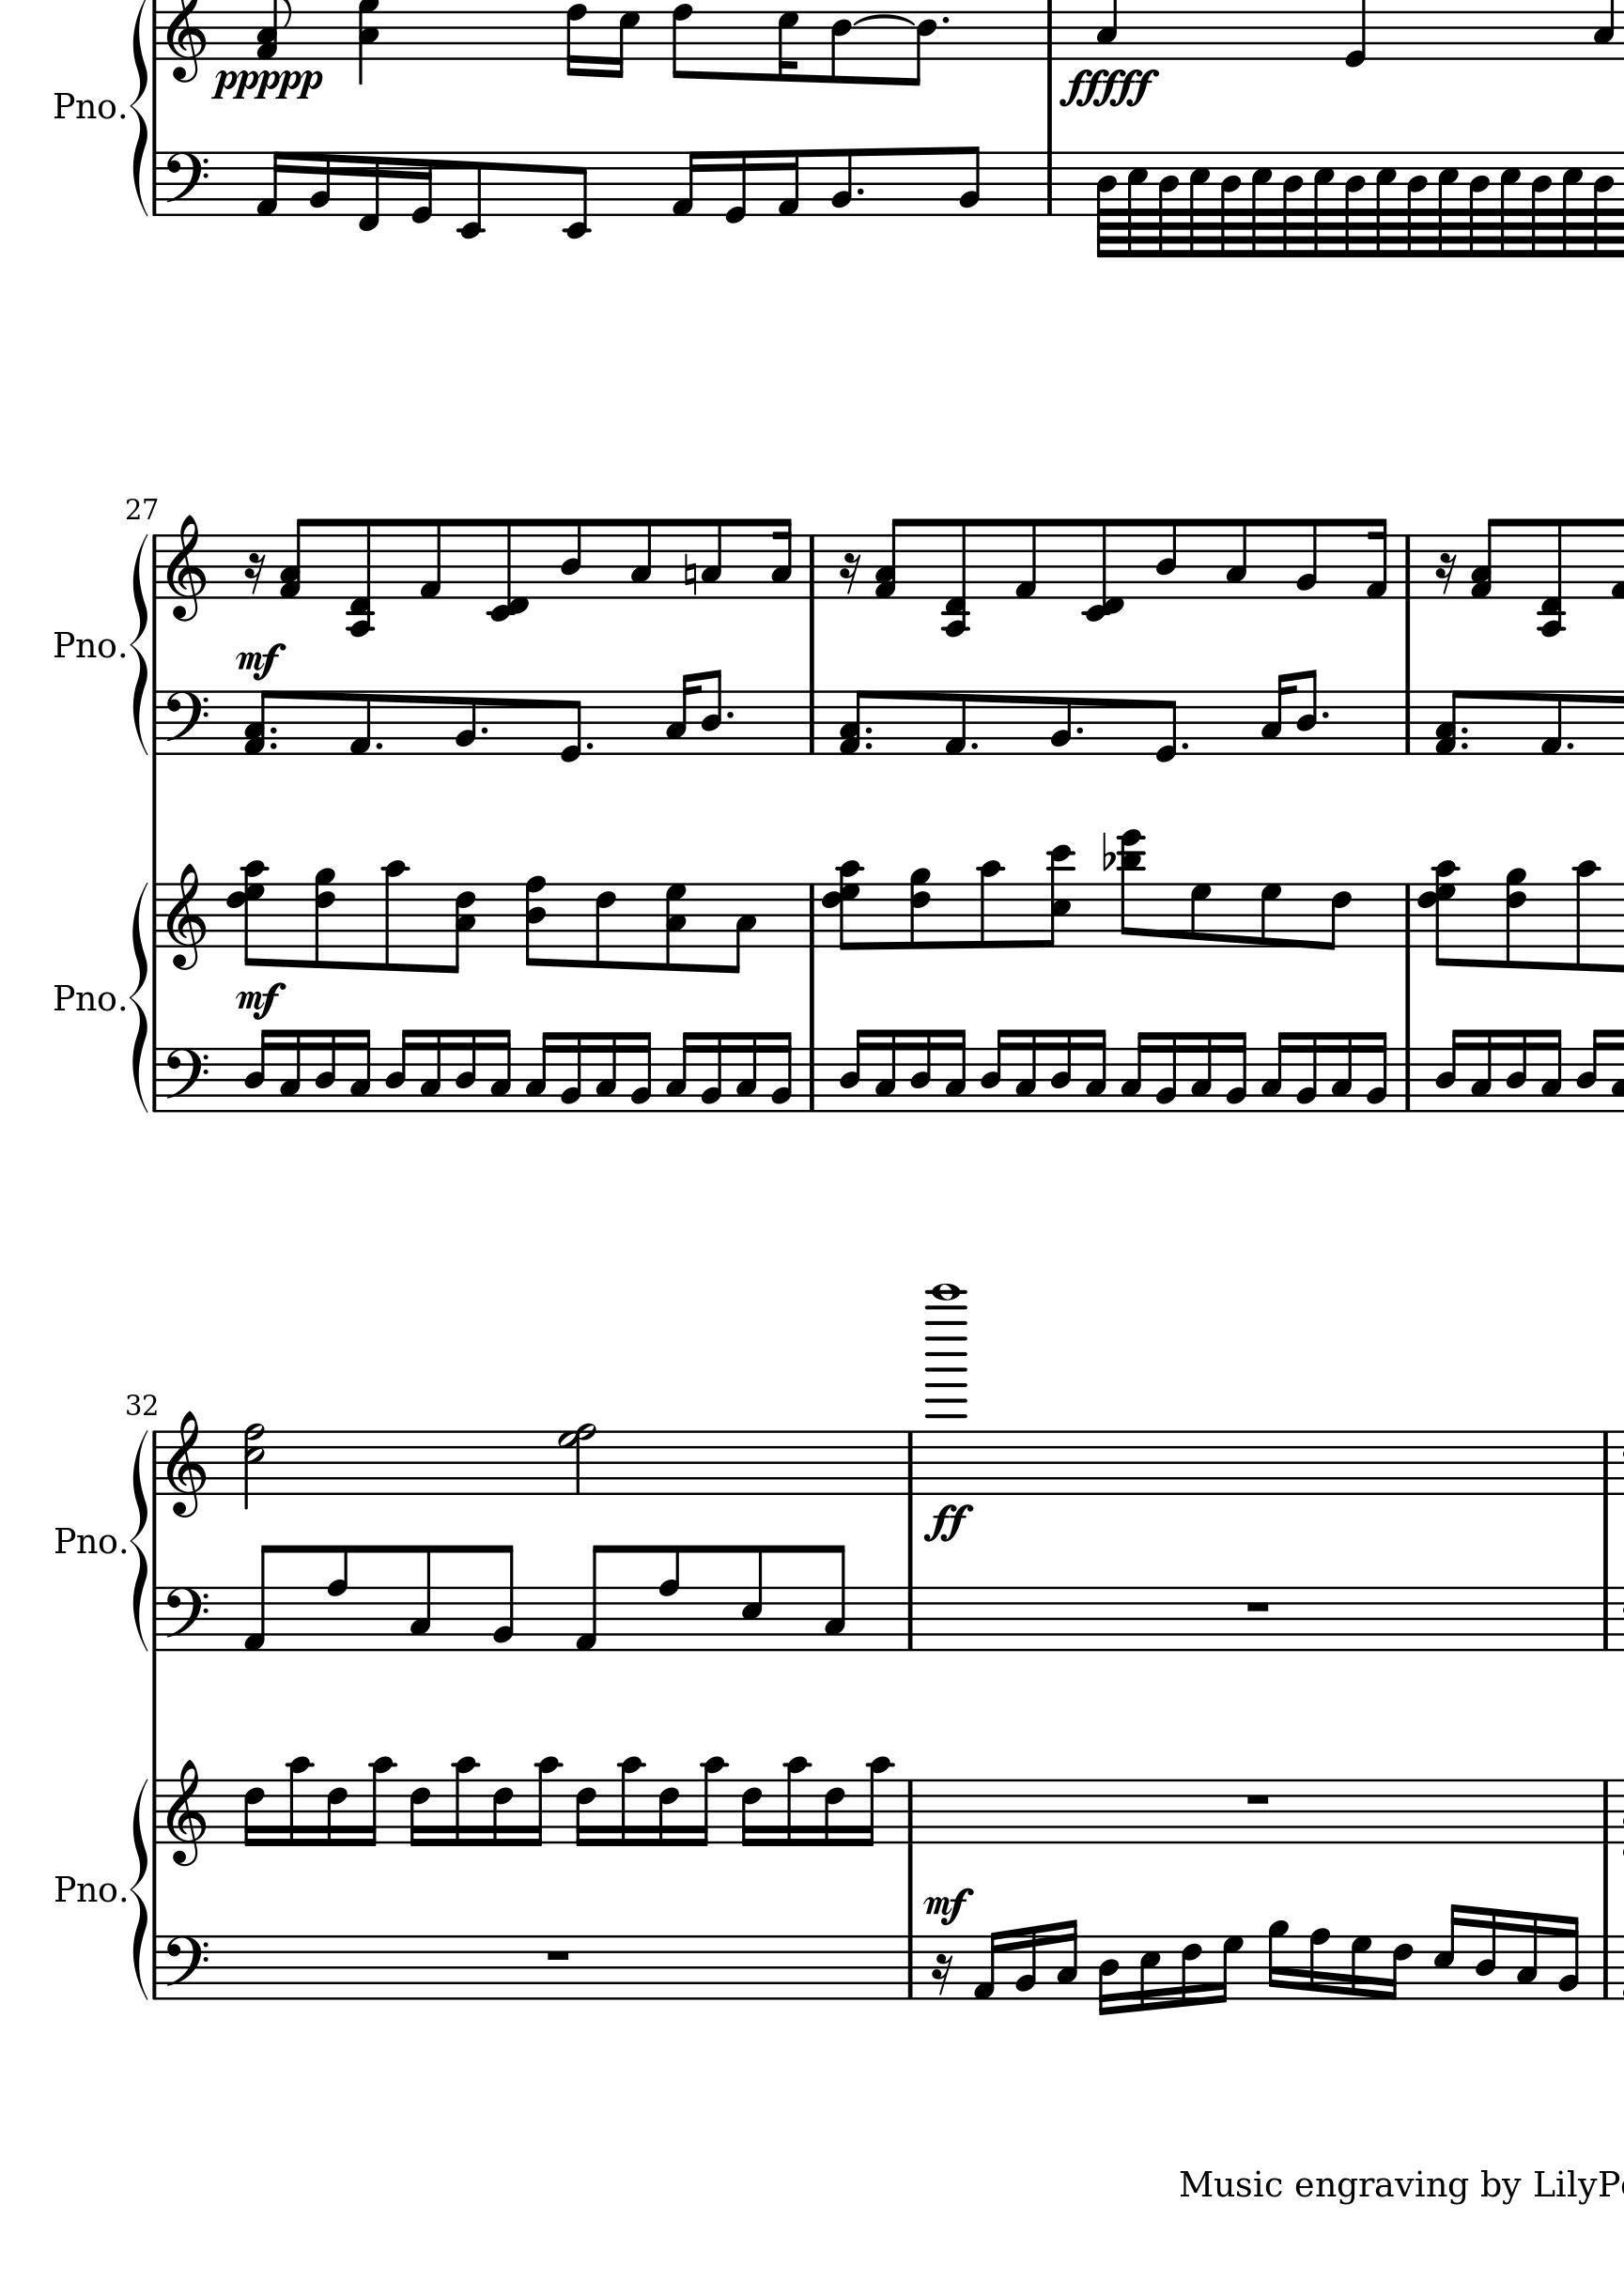16_-1: (357, 149, 381, 234)
16_0: (408, 149, 434, 225), (722, 148, 747, 225)
16_1: (972, 1929, 1004, 2003), (253, 149, 285, 218), (1362, 515, 1387, 603), (670, 149, 701, 216), (773, 148, 800, 216)
16_10: (526, 1755, 562, 1848), (858, 1755, 895, 1848), (692, 1755, 728, 1850), (362, 1755, 397, 1848), (283, 1755, 313, 1848), (450, 1755, 480, 1848), (615, 1755, 645, 1848), (782, 1755, 810, 1848)
16_2: (1555, 1913, 1580, 2003), (627, 1029, 652, 1116), (1294, 1029, 1318, 1116), (557, 1029, 582, 1114), (698, 1029, 722, 1114), (768, 1029, 793, 1114), (1153, 1029, 1178, 1114), (1364, 1029, 1388, 1114), (1223, 1029, 1246, 1116), (1012, 1924, 1037, 2001), (308, 151, 332, 218)
16_3: (663, 671, 700, 755), (1258, 671, 1295, 755), (1118, 1029, 1149, 1114), (1258, 1029, 1290, 1112), (524, 1029, 554, 1112), (663, 1029, 692, 1112), (1513, 1908, 1540, 2001), (417, 1028, 443, 1114), (1536, 1028, 1562, 1114), (1327, 1029, 1353, 1114), (940, 1026, 965, 1116), (1186, 1029, 1213, 1112), (768, 515, 793, 601), (278, 1028, 302, 1114), (346, 1028, 371, 1114), (487, 1028, 511, 1114), (872, 1028, 896, 1114), (1012, 1028, 1037, 1114), (1468, 1028, 1492, 1114), (592, 1029, 617, 1114), (733, 1029, 758, 1114), (1055, 1917, 1079, 2001), (1083, 1028, 1106, 1112), (1608, 1026, 1622, 1116)
16_4: (1431, 1026, 1462, 1114), (243, 1026, 272, 1114), (837, 1026, 866, 1114), (1573, 1026, 1603, 1114), (383, 1026, 413, 1112), (977, 1026, 1007, 1112), (1471, 1906, 1497, 2001), (1048, 1026, 1072, 1114), (313, 1026, 336, 1114), (453, 1026, 476, 1114), (909, 1026, 932, 1114), (1504, 1026, 1527, 1112), (1095, 1934, 1118, 2017)
16_5: (1431, 1901, 1462, 2001), (1137, 1932, 1160, 2013)
16_6: (1381, 1932, 1411, 2001), (241, 1776, 265, 1848), (738, 1776, 763, 1848), (323, 1776, 348, 1846), (656, 1776, 680, 1846), (1179, 1934, 1202, 2008), (408, 1776, 431, 1848), (573, 1776, 596, 1848), (490, 1776, 513, 1846), (823, 1776, 844, 1846)
16_7: (1213, 1932, 1243, 2006), (1346, 1932, 1371, 2003)
16_8: (1306, 1925, 1330, 2001)
16_9: (1264, 1918, 1288, 2001)
2: (121, 495, 141, 522), (141, 1391, 156, 1418)
2_5_8: (243, 1421, 267, 1513)
2_7_8: (557, 1421, 598, 1498)
3: (125, 1391, 141, 1418)
64_4: (1341, 151, 1366, 258), (1527, 151, 1552, 258), (1155, 151, 1179, 256), (1093, 151, 1116, 260), (1218, 151, 1241, 260), (1280, 151, 1302, 260), (1466, 151, 1489, 260), (1404, 151, 1427, 256), (1591, 151, 1613, 256)
64_5: (1125, 149, 1149, 260), (1186, 149, 1211, 258), (1373, 151, 1397, 260), (1559, 149, 1584, 258), (1250, 149, 1272, 260), (1436, 151, 1459, 260), (1497, 151, 1520, 260), (1311, 151, 1334, 258)
7: (141, 495, 158, 522)
8_-2: (455, 149, 485, 241), (561, 151, 591, 241)
8_-2_-1: (1077, 516, 1125, 622), (485, 516, 531, 622)
8_-4_-1: (940, 518, 972, 641), (1538, 516, 1568, 641), (344, 518, 376, 636)
8_0: (557, 689, 584, 766), (1153, 689, 1178, 764)
8_1: (569, 1541, 606, 1655), (239, 1542, 276, 1653), (417, 516, 441, 601), (1012, 518, 1035, 601), (346, 689, 373, 757), (940, 689, 967, 757), (1536, 689, 1562, 757)
8_10: (378, 859, 408, 975), (1571, 859, 1601, 975), (975, 859, 1002, 952)
8_11_14: (1116, 826, 1148, 949)
8_1_3: (278, 518, 313, 599), (872, 518, 907, 599), (1471, 518, 1506, 599), (241, 689, 274, 755), (838, 689, 870, 755), (1434, 689, 1466, 755)
8_2: (489, 1542, 515, 1655), (1292, 518, 1318, 601), (1048, 690, 1072, 757), (830, 148, 852, 218), (958, 144, 979, 218), (453, 690, 476, 757)
8_3: (722, 880, 758, 975), (406, 1542, 431, 1655), (821, 1542, 845, 1655), (1223, 516, 1248, 601), (627, 518, 652, 601), (700, 520, 722, 601)
8_3_6: (443, 882, 476, 973)
8_3_7: (663, 880, 689, 973)
8_4: (557, 516, 582, 601), (1153, 516, 1178, 601), (1295, 668, 1316, 755), (701, 668, 721, 755)
8_4_8: (524, 873, 548, 968)
8_5: (740, 1542, 761, 1653)
8_5_12: (1042, 843, 1074, 950)
8_6: (1318, 880, 1352, 954), (592, 880, 617, 971)
8_6_9: (313, 866, 339, 971), (1504, 864, 1529, 970), (909, 864, 933, 949)
8_7: (1186, 880, 1211, 949), (1258, 882, 1281, 949)
8_8: (654, 1544, 680, 1651), (323, 1542, 348, 1653)
8_th: (225, 859, 269, 970), (1418, 859, 1462, 968), (823, 857, 866, 952)
Brace: (127, 878, 149, 1114), (127, 1425, 149, 1653), (128, 1774, 151, 2001), (128, 2, 149, 220), (128, 527, 148, 759)
Fclef: (162, 148, 209, 220), (162, 1043, 209, 1112), (162, 1583, 209, 1651), (163, 687, 209, 757), (162, 1932, 207, 1989)
Gclef: (165, 863, 207, 973), (165, 1758, 207, 1867), (165, 513, 206, 622), (165, 1411, 206, 1520)
Natural: (678, 550, 698, 599), (1098, 829, 1116, 875)
Pno: (51, 88, 116, 126), (53, 980, 116, 1017), (51, 1873, 118, 1906), (51, 629, 114, 662), (53, 1525, 116, 1558)
Rests1: (1241, 1790, 1272, 1809), (1241, 1599, 1272, 1616), (541, 1946, 573, 1964)
Rests16: (837, 552, 861, 597), (243, 550, 265, 596), (930, 1950, 953, 1996), (1434, 550, 1455, 596)
Single_barline: (800, 534, 823, 599), (898, 1780, 921, 1845), (900, 1936, 923, 1999), (800, 885, 823, 947), (1396, 534, 1417, 599), (1397, 882, 1418, 947), (800, 1049, 821, 1112), (898, 1588, 919, 1651), (1397, 690, 1417, 755), (1039, 153, 1058, 216), (801, 690, 821, 754), (1397, 1049, 1417, 1112), (1596, 1588, 1615, 1651), (900, 1432, 919, 1493), (1596, 1432, 1615, 1493), (1039, 2, 1058, 60), (1596, 1936, 1613, 1999), (1598, 1781, 1615, 1843), (148, 690, 163, 755), (148, 1936, 163, 2001), (148, 153, 163, 216), (148, 536, 163, 599), (148, 884, 163, 947), (148, 1049, 163, 1112), (148, 2, 163, 60), (148, 1586, 162, 1651), (148, 1780, 162, 1845), (148, 1432, 162, 1495), (569, 1446, 584, 1495)
dot: (476, 722, 490, 740), (1562, 738, 1577, 755), (722, 708, 736, 724), (1072, 724, 1086, 740), (582, 738, 596, 754), (967, 738, 981, 754), (861, 724, 875, 738), (1457, 724, 1471, 738), (1178, 740, 1192, 754), (1457, 740, 1471, 754), (1318, 708, 1330, 724), (939, 12, 951, 26), (861, 740, 875, 752), (373, 740, 385, 752), (854, 186, 866, 197), (267, 726, 278, 736), (267, 740, 278, 750)
ff: (921, 1504, 972, 1546)
fffff: (1058, 65, 1162, 112)
mf: (234, 980, 288, 1022), (923, 1885, 974, 1925), (236, 643, 286, 678)
ppppp: (211, 67, 323, 98)
